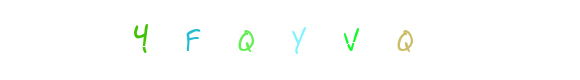4: (151, 0, 231, 80)
F: (180, 0, 260, 80)
Q: (207, 0, 287, 80), (339, 0, 419, 80)
V: (250, 0, 330, 80)
Y: (228, 0, 308, 80)
